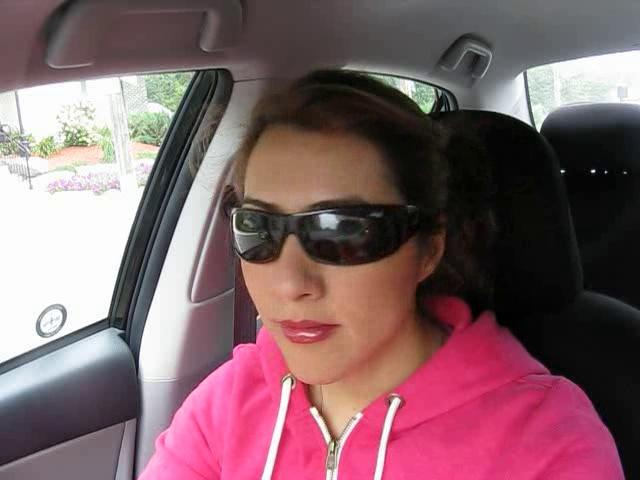no_yawn: (262, 305, 356, 356)
